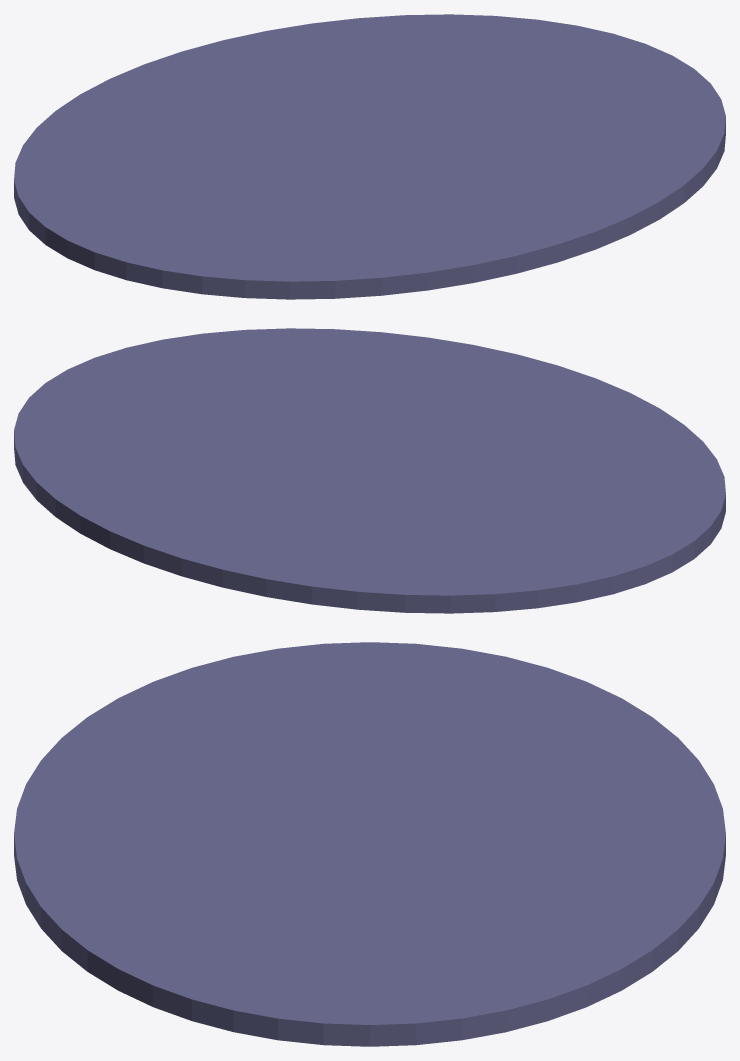
File: geometria.glb
3 renders of one model, top to bottom at view 1: azimuth 30°, elevation 25°; view 2: azimuth 150°, elevation 25°; view 3: azimuth 270°, elevation 25°, orthographic. The views are drawn at different scales.
Visible parts, largest first — view 1: Geom3D; view 2: Geom3D; view 3: Geom3D.
Boxes of the visible parts, box(x1,y1,x2,y2) form: Geom3D: box(14, 14, 725, 299); Geom3D: box(14, 328, 725, 613); Geom3D: box(14, 642, 725, 1046).
Bounding box in the file's own units: 1.4 × 0.037 × 1.1.
